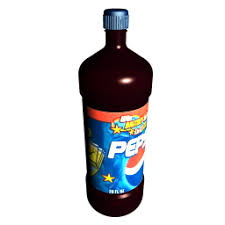pepsi: (108, 140, 148, 187)
